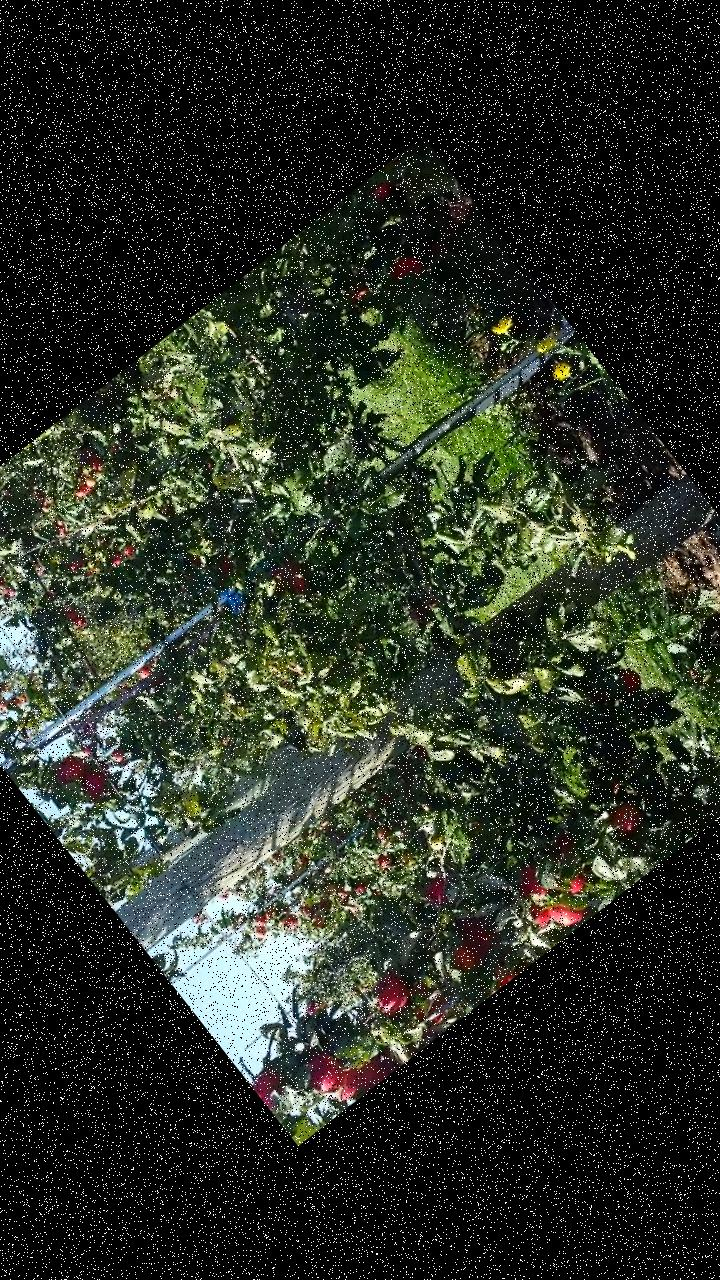Apple: (398, 974, 452, 1030), (297, 1045, 348, 1096), (366, 970, 412, 1016), (266, 556, 310, 602), (248, 1064, 292, 1108), (48, 746, 92, 789), (348, 1050, 392, 1092), (544, 892, 586, 934), (509, 862, 549, 904), (381, 248, 423, 288), (605, 796, 646, 836), (75, 762, 115, 802), (327, 1064, 366, 1102), (461, 926, 492, 958), (522, 897, 552, 929), (422, 876, 452, 906), (445, 941, 474, 971), (616, 662, 644, 692), (563, 870, 590, 896), (369, 178, 394, 204), (552, 832, 574, 858), (489, 964, 513, 986), (457, 914, 478, 936), (214, 552, 232, 571)
